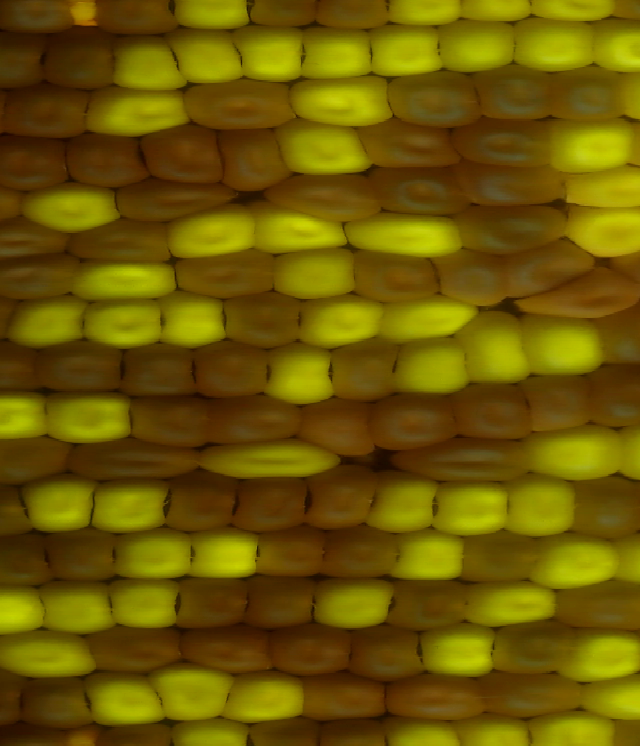fluorescent: (339, 209, 468, 256), (528, 307, 606, 381), (502, 470, 581, 543), (201, 440, 343, 480), (151, 657, 233, 724), (39, 570, 118, 639), (248, 196, 352, 248), (288, 290, 383, 345), (21, 180, 120, 232), (511, 16, 598, 75), (526, 427, 621, 481), (311, 571, 391, 635), (465, 311, 531, 388), (436, 13, 516, 76), (433, 476, 511, 540), (179, 523, 260, 583), (81, 483, 178, 533), (360, 467, 432, 534), (393, 334, 472, 395), (86, 672, 169, 730), (0, 628, 96, 678), (111, 524, 195, 581), (20, 471, 91, 538), (41, 391, 130, 444), (222, 669, 307, 724), (90, 92, 193, 137), (74, 301, 170, 349), (468, 577, 558, 628), (159, 206, 254, 254), (284, 124, 370, 177), (77, 257, 178, 302), (367, 19, 444, 78), (549, 118, 636, 170), (564, 623, 640, 682), (295, 80, 394, 125), (412, 625, 495, 678), (172, 28, 247, 86), (6, 296, 93, 346), (536, 529, 612, 586), (278, 248, 358, 302), (105, 37, 181, 93), (302, 23, 375, 80), (562, 201, 640, 254), (111, 577, 183, 633), (160, 292, 230, 349), (270, 344, 332, 404), (384, 295, 470, 337), (243, 24, 304, 83), (401, 529, 467, 582), (563, 166, 640, 207), (589, 17, 640, 75), (0, 388, 54, 441), (0, 581, 54, 634), (538, 712, 621, 746), (591, 674, 640, 723), (610, 532, 640, 581)
nonfluorescent: (347, 244, 448, 306), (385, 441, 526, 485), (183, 75, 300, 128), (37, 338, 135, 401), (264, 169, 379, 222), (386, 67, 484, 129), (495, 239, 606, 293), (63, 217, 184, 266), (131, 125, 225, 188), (459, 119, 560, 177), (67, 438, 202, 481), (201, 388, 304, 444), (449, 381, 542, 443), (218, 124, 295, 197), (483, 664, 589, 717), (64, 124, 152, 187), (298, 398, 383, 462), (110, 176, 242, 217), (464, 201, 578, 248), (468, 60, 557, 120), (385, 670, 491, 720), (5, 83, 89, 146), (560, 475, 640, 539), (369, 392, 463, 446), (463, 161, 568, 209), (230, 471, 310, 534), (167, 470, 244, 535), (374, 167, 468, 220), (84, 628, 190, 674), (344, 617, 425, 677), (365, 124, 470, 170), (302, 466, 375, 532), (20, 667, 93, 733), (177, 249, 275, 298), (123, 340, 200, 402), (188, 341, 270, 399), (543, 583, 640, 632), (543, 66, 626, 123), (322, 525, 405, 582), (515, 374, 595, 433), (300, 671, 389, 722), (515, 271, 639, 307), (38, 528, 121, 581), (130, 397, 211, 450), (490, 620, 572, 672), (435, 251, 504, 312), (0, 137, 75, 193), (227, 293, 300, 349), (180, 629, 265, 677), (244, 572, 317, 627), (46, 29, 114, 88), (452, 533, 532, 583), (177, 575, 248, 630), (0, 250, 73, 303), (331, 337, 395, 397), (393, 574, 468, 625), (273, 625, 346, 677), (251, 527, 321, 578), (0, 437, 72, 482), (590, 367, 640, 430), (0, 533, 51, 593), (0, 33, 57, 85), (0, 218, 72, 256), (601, 299, 640, 365), (0, 485, 39, 541), (0, 343, 44, 391), (0, 3, 69, 33)
